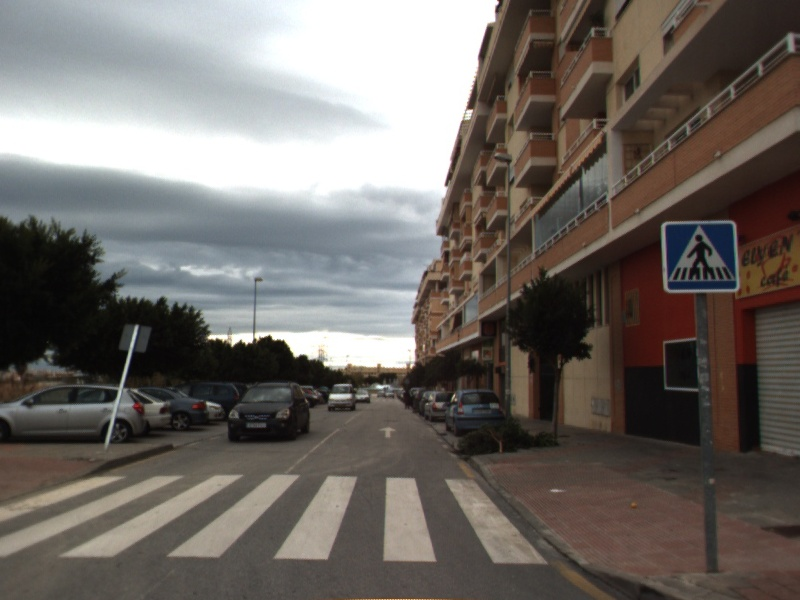STRAIGHT: (377, 424, 398, 439)
